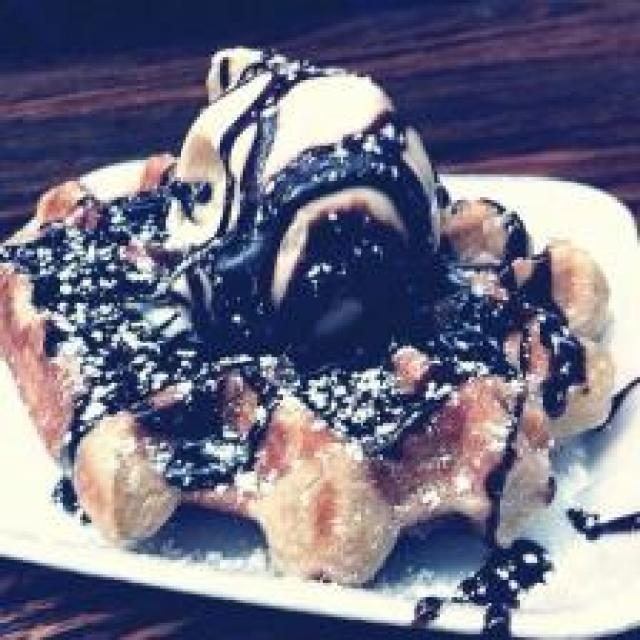Waffles: (0, 179, 640, 587)
